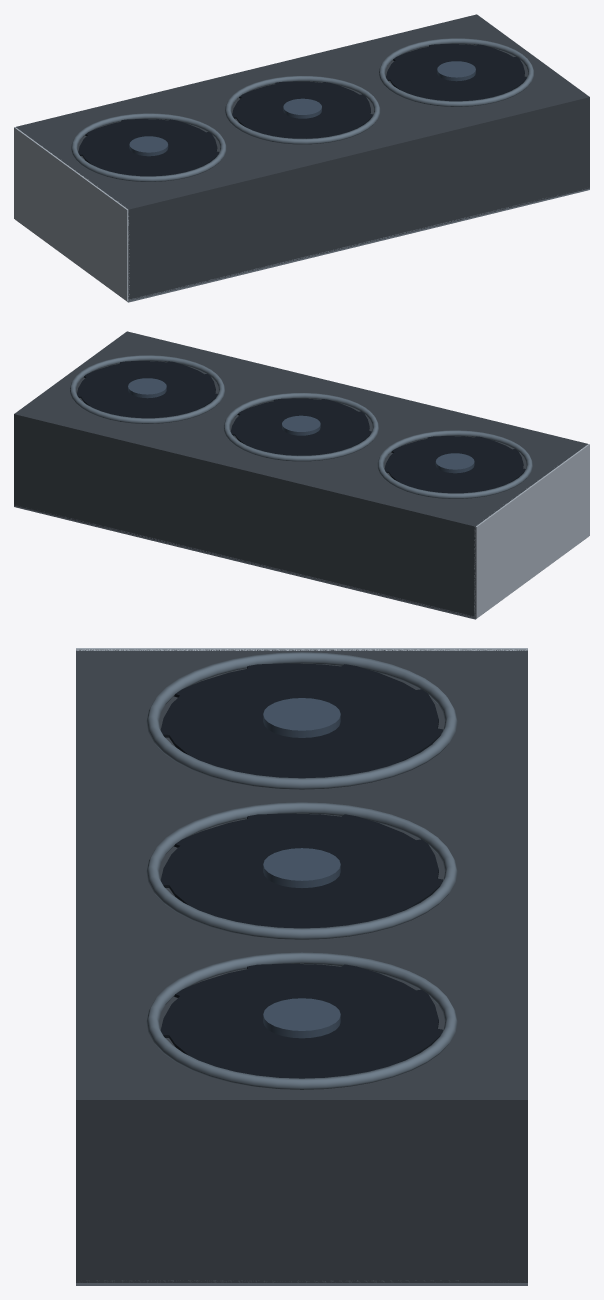
File: retail-asus-tuf-gaming-radeon-rx-9070-xt-oc-edition-16gb.glb
3 views of the same model, one above another, from view 1: azimuth 30°, elevation 25°; view 2: azimuth 150°, elevation 25°; view 3: azimuth 270°, elevation 25° (orthographic). The views are drawn at different scales.
Parts seen in each view (by area): view 1: Cooler shroud, Cooler blade (×27), Bracket, Fan rim (×3), Fan hub (×3), Backplate; view 2: Cooler shroud, Cooler blade (×27), Bracket, Fan rim (×3), Fan hub (×3), Backplate; view 3: Cooler shroud, Cooler blade (×27), Fan rim (×3), Fan hub (×3), Backplate, Bracket.
Part boxes in pixels (x1,y1,x2,y2): Cooler shroud: [16, 14, 589, 300]; Cooler blade (×27): [78, 44, 526, 176]; Bracket: [14, 127, 129, 301]; Fan rim (×3): [71, 38, 534, 181]; Fan hub (×3): [129, 61, 475, 156]; Backplate: [23, 188, 589, 302]; Cooler shroud: [14, 331, 587, 617]; Cooler blade (×27): [77, 361, 525, 493]; Bracket: [474, 444, 589, 618]; Fan rim (×3): [69, 355, 532, 498]; Fan hub (×3): [128, 378, 474, 473]; Backplate: [14, 504, 580, 619]; Cooler shroud: [76, 649, 527, 1282]; Cooler blade (×27): [160, 663, 443, 1078]; Fan rim (×3): [146, 652, 457, 1089]; Fan hub (×3): [263, 698, 340, 1038]; Backplate: [76, 1280, 527, 1285]; Bracket: [76, 648, 527, 650].
Size of the model in its own units: 0.331 by 0.067 by 0.14.
